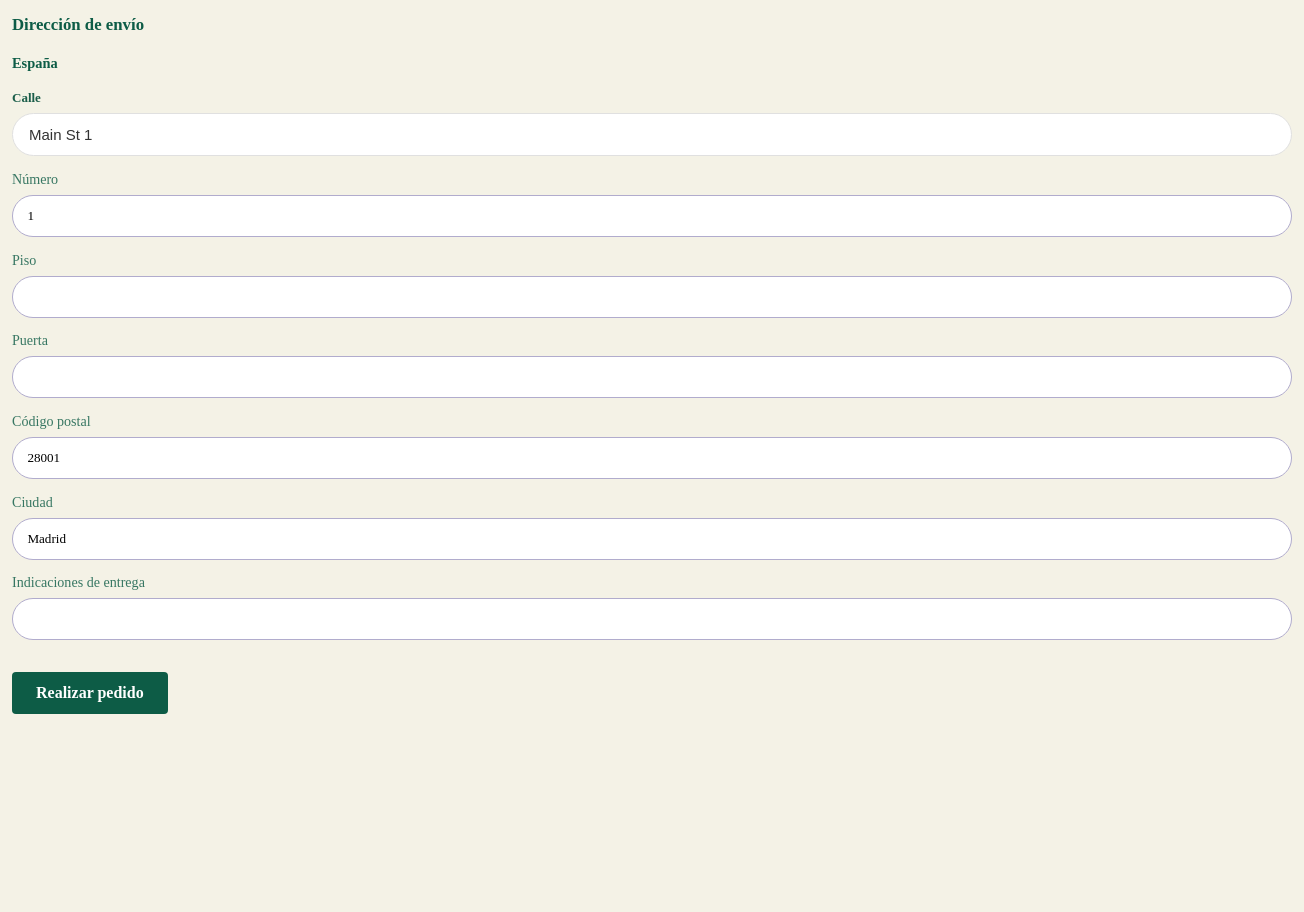
CheckoutConfirmButton › shows an error when saving the shipping address fails
Click the button "Realizar pedido" at (90, 693), box [12,672,168,714]
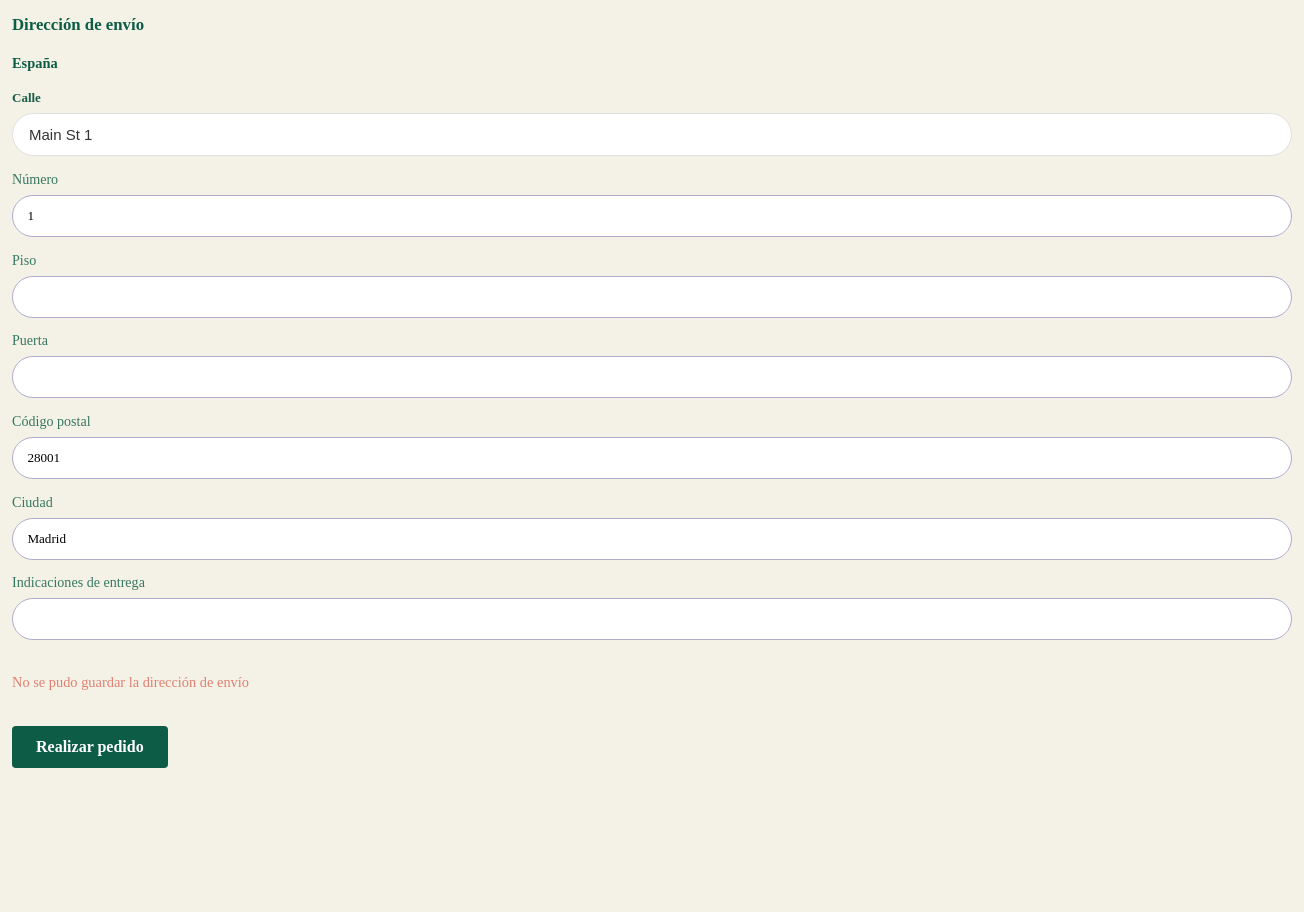
Result: the message reads "No se pudo guardar la dirección de envío" at [12,674,249,690]
